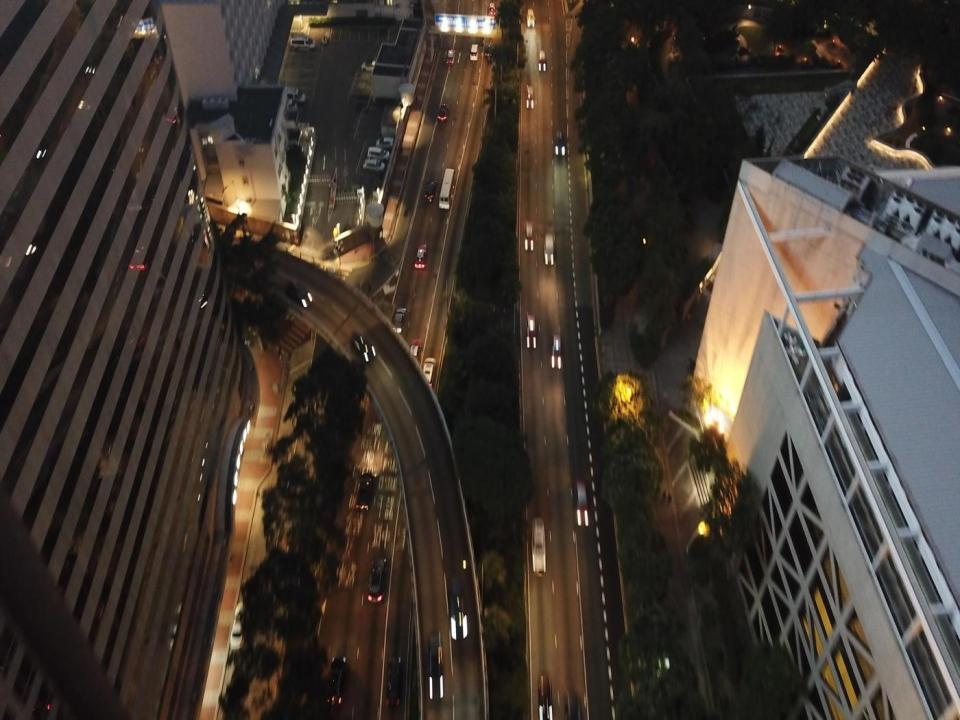bus: (438, 168, 455, 209)
car: (327, 656, 345, 705), (368, 557, 386, 603), (284, 282, 313, 308), (350, 332, 375, 361), (575, 479, 589, 526), (538, 673, 552, 719), (393, 307, 407, 334), (410, 338, 421, 370), (543, 233, 554, 265), (414, 244, 427, 270), (553, 129, 566, 154), (523, 221, 534, 250), (424, 179, 437, 201), (525, 85, 534, 109), (438, 103, 449, 122), (485, 42, 496, 58), (538, 49, 546, 70), (446, 49, 456, 65), (489, 3, 496, 17)
van: (427, 629, 444, 700), (449, 579, 468, 640), (532, 520, 546, 574), (387, 654, 401, 705), (356, 472, 372, 512), (422, 357, 436, 390), (526, 314, 536, 348), (551, 336, 561, 368), (470, 43, 479, 60), (526, 9, 534, 28)
